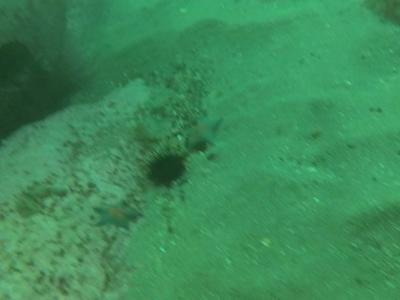urchin: (147, 147, 186, 184)
